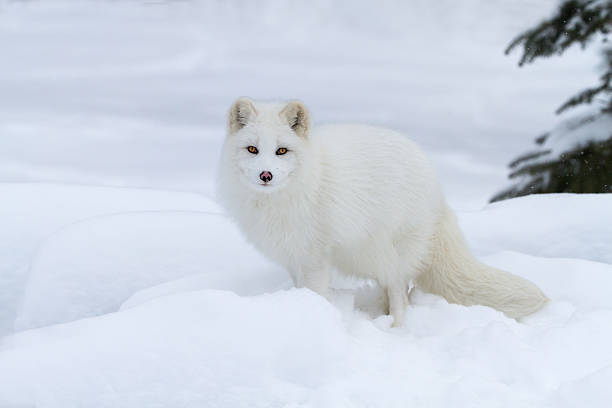arcticfox: (229, 127, 310, 205)
